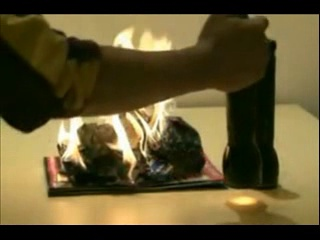fire: (126, 100, 174, 158), (102, 113, 136, 180), (107, 25, 175, 53), (57, 116, 88, 173)
